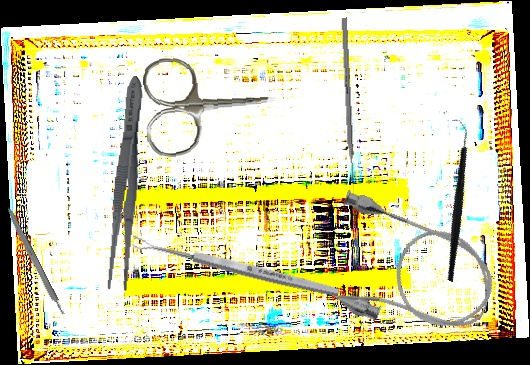Cannula: (297, 185, 508, 357)
Chopper: (393, 119, 518, 283)
Dressing Forceps: (103, 75, 150, 292)
Iris Scissors: (141, 50, 280, 159)
Pusher: (340, 17, 357, 195)
Scalpel Handle: (3, 205, 66, 317)
Surgical Spoon: (131, 234, 341, 300)
